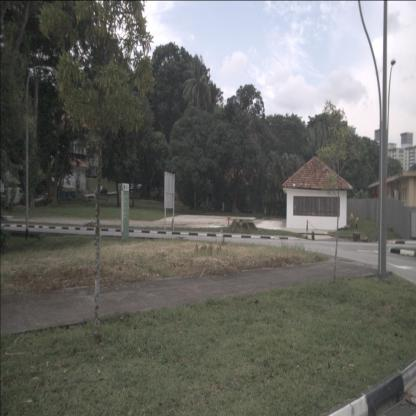vehicle-car: (6, 187, 27, 206), (94, 186, 108, 196), (136, 183, 145, 192), (129, 183, 137, 192)
